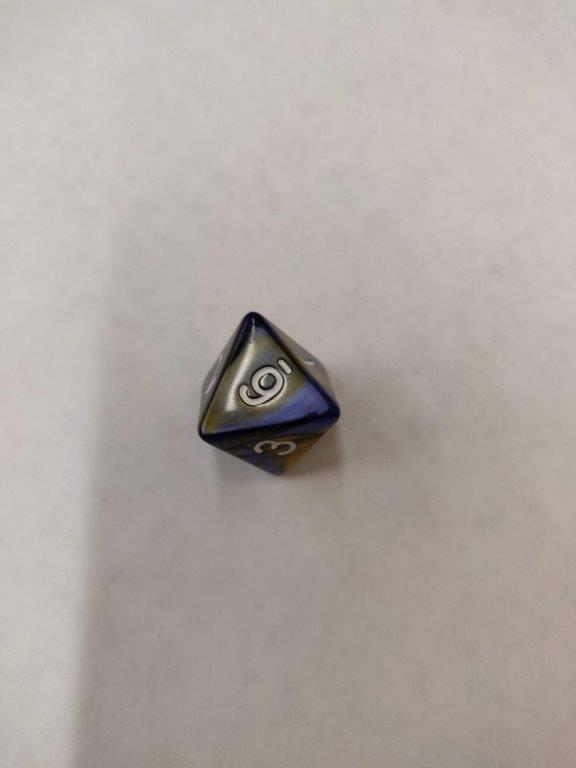d8-6: (197, 310, 342, 476)
